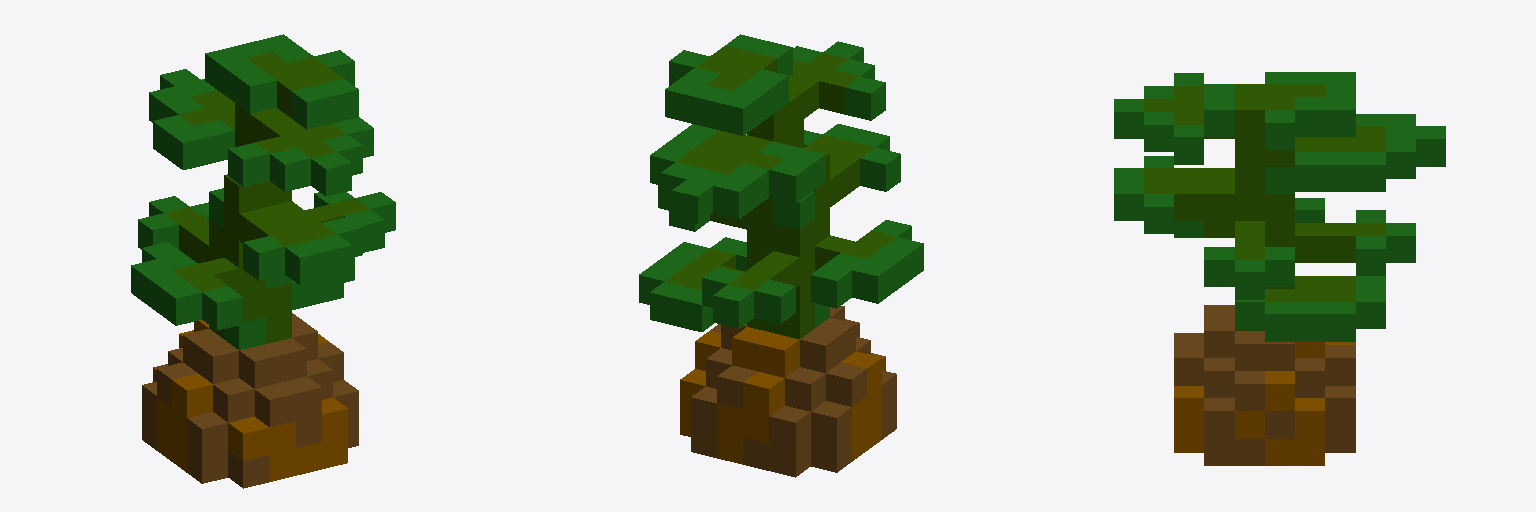
3 views of the same model, side by side, from view 1: azimuth 30°, elevation 25°; view 2: azimuth 150°, elevation 25°; view 3: azimuth 270°, elevation 25° (orthographic).
Visible parts, largest first — view 1: object 1; view 2: object 1; view 3: object 1.
Part boxes in pixels (x1,y1,x2,y2): object 1: (131, 34, 395, 488); object 1: (639, 34, 923, 477); object 1: (1114, 72, 1445, 465).
Bounding box in the file's own units: 0.9 × 1.3 × 1.1.
1 materials, 1 textured.